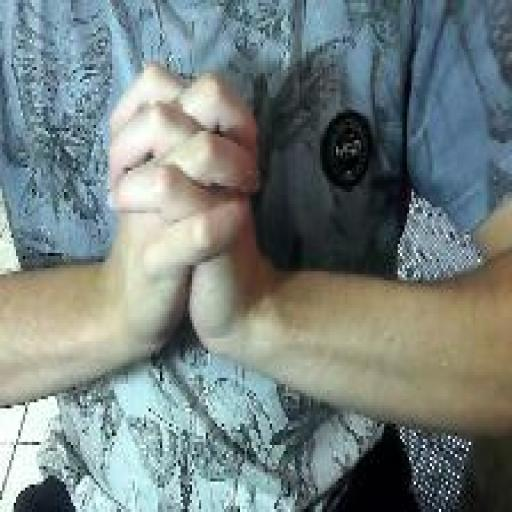Mi -snake-: (103, 56, 265, 376)
